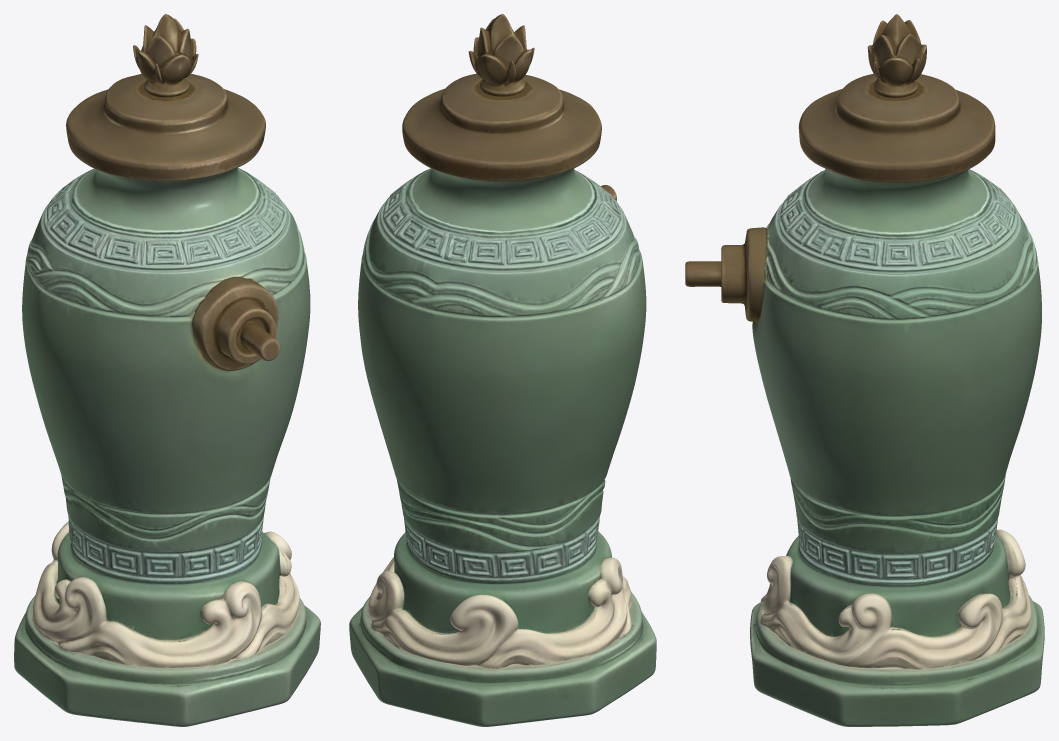
The model's file is act1_refill_valve_rodin.glb.
The picture shows the model from 3 angles, left to right: view 1: azimuth 30°, elevation 25°; view 2: azimuth 150°, elevation 25°; view 3: azimuth 270°, elevation 25°; orthographic projection.
Visible parts, largest first — view 1: SM_Act1_RefillValveRodin; view 2: SM_Act1_RefillValveRodin; view 3: SM_Act1_RefillValveRodin.
Boxes of the visible parts, bbox=[...] form: SM_Act1_RefillValveRodin: bbox=[14, 14, 320, 726]; SM_Act1_RefillValveRodin: bbox=[349, 14, 656, 726]; SM_Act1_RefillValveRodin: bbox=[685, 14, 1044, 726].
Bounding box in the file's own units: 0.4618 × 1.12 × 0.5586.
1 material, 1 textured.
